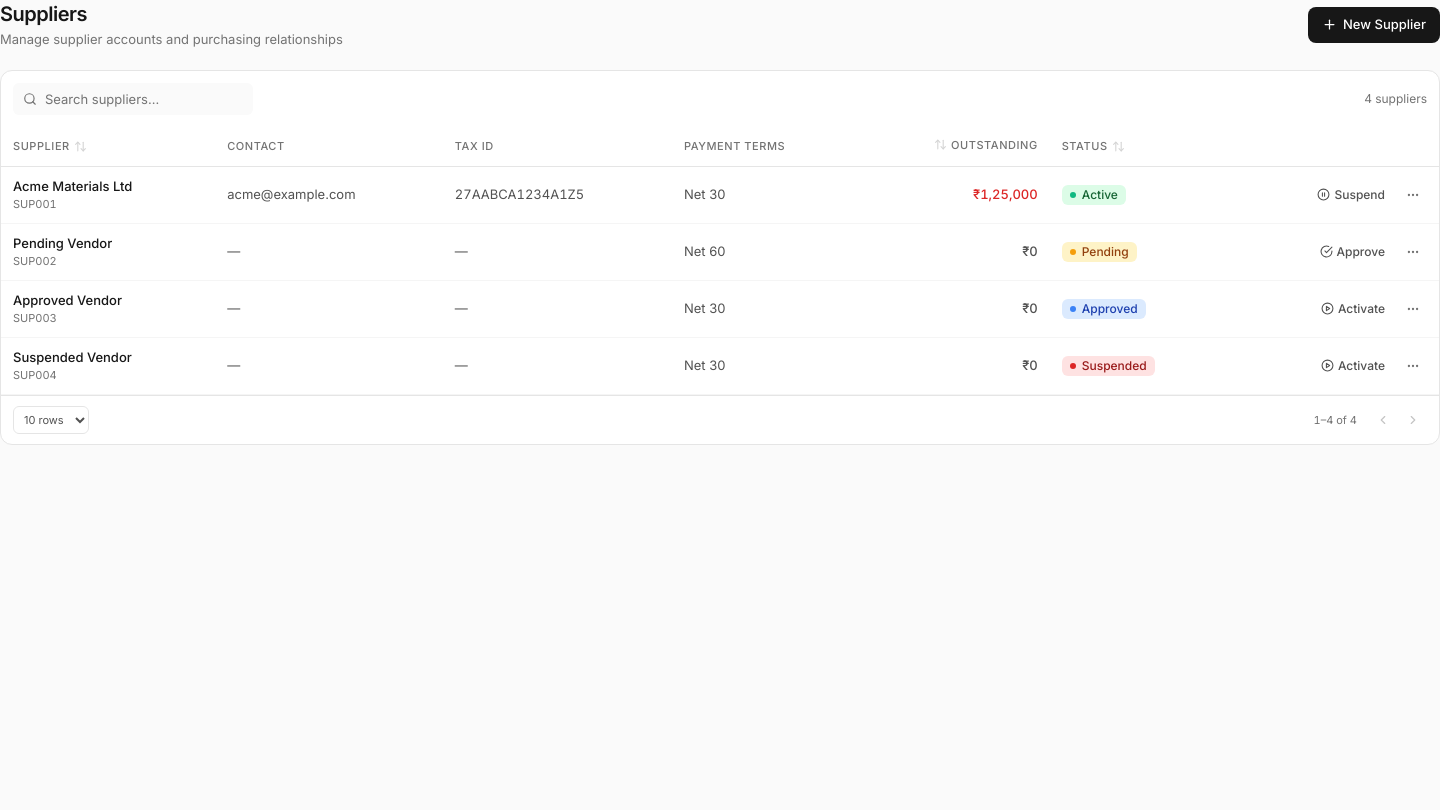
Scenario: SuppliersPage › opens create form modal when New Supplier is clicked
The image size is (1440, 810).
Click the button "New Supplier" at (1374, 25), box left=1308, top=7, right=1439, bottom=43
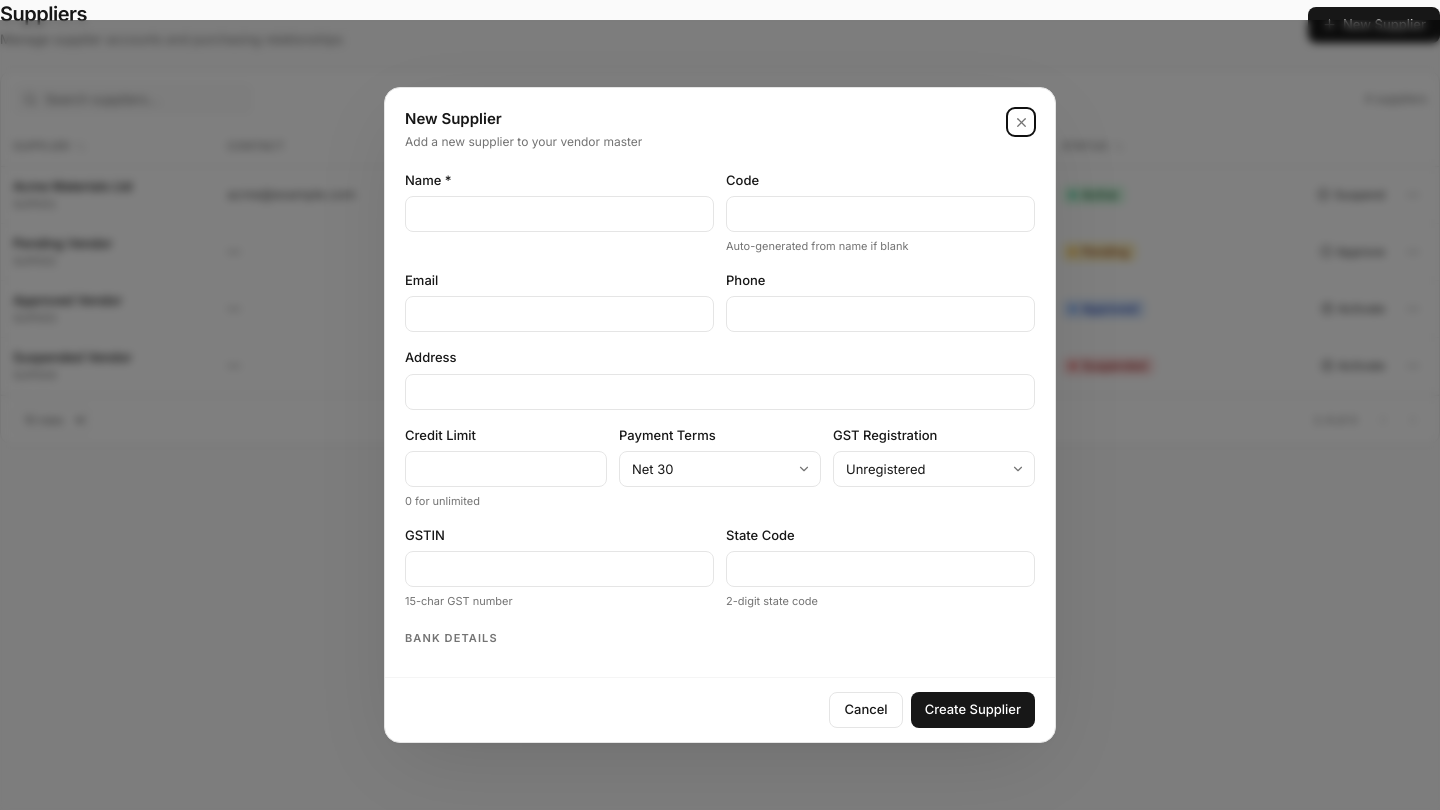
Result: the button "Create Supplier" is shown at left=911, top=692, right=1035, bottom=728
